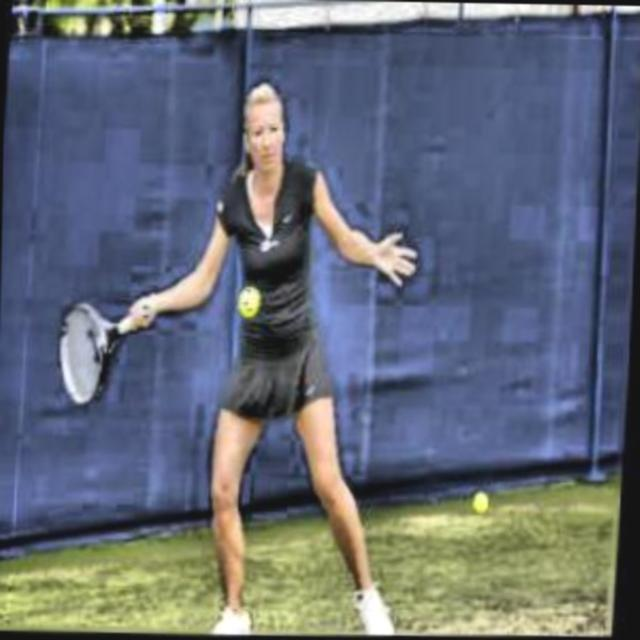tennis-ball: (238, 288, 258, 314), (475, 494, 488, 516)
